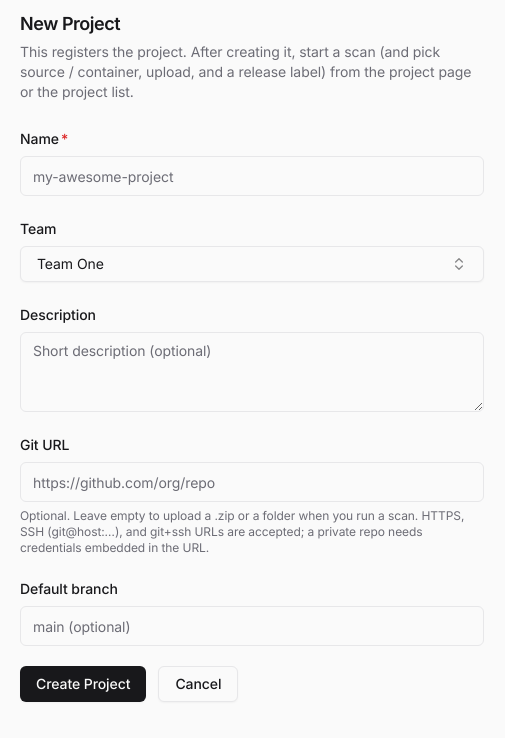
ProjectCreatePage › shows the inline error alert when the API returns a ProblemError
Type "Duplicate" into the field with test id "project-name-input" at [252, 176], box [20,156,484,196]
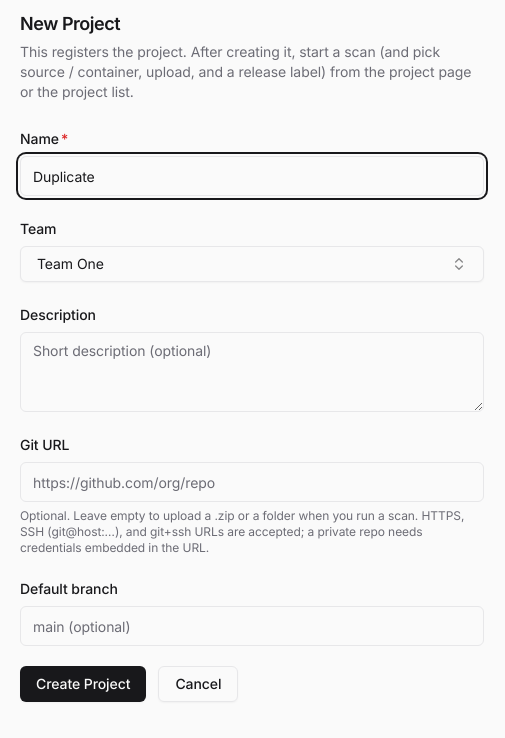
Click the button with test id "project-create-submit" at [83, 684], box [20,666,146,702]
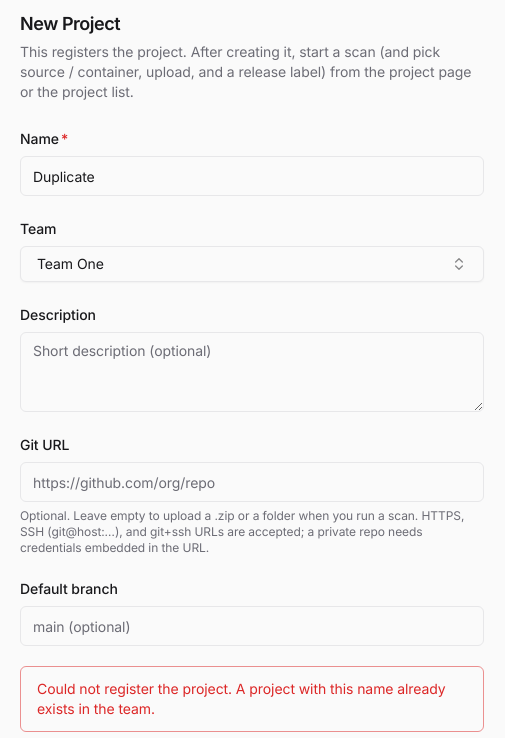
Now the message with test id "project-create-error" is shown, box [20,666,484,732]
Now the message with test id "project-create-error" shows "A project with this name already exists in the team.", box [37,680,446,717]
